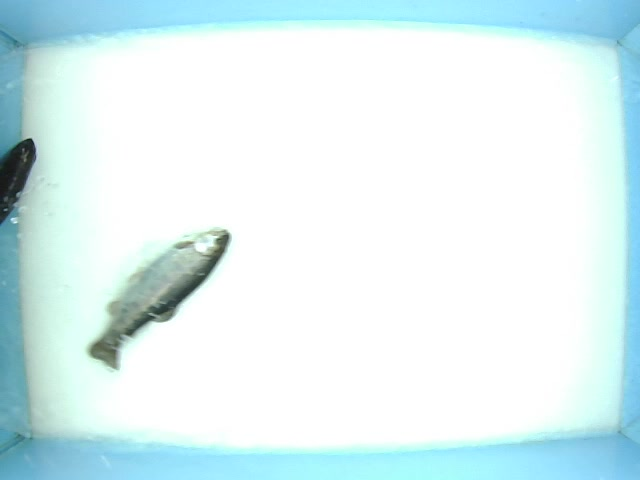fish: (81, 211, 260, 374)
